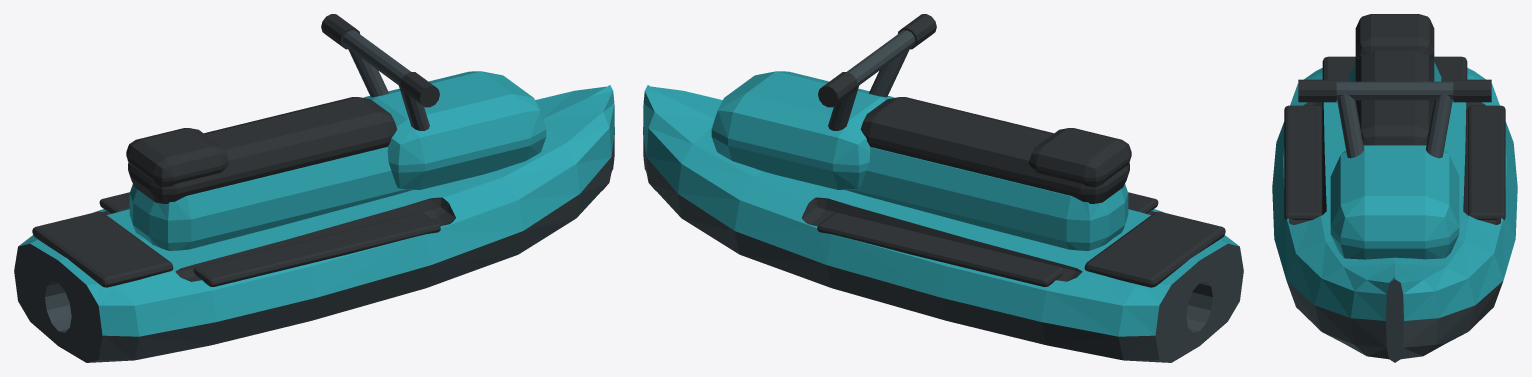
Rendered from NEW_RECOVERY_122_LOD2.fbx.
3 renders of one model, left to right at view 1: azimuth 30°, elevation 25°; view 2: azimuth 150°, elevation 25°; view 3: azimuth 270°, elevation 25°, orthographic. The views are drawn at different scales.
Parts seen in each view (by area): view 1: Generic personal watercraft solid; view 2: Generic personal watercraft solid; view 3: Generic personal watercraft solid.
Boxes of the visible parts, <box> form: Generic personal watercraft solid: <box>14,14,614,362</box>; Generic personal watercraft solid: <box>643,14,1243,362</box>; Generic personal watercraft solid: <box>1272,14,1517,362</box>.
Size of the model in its own units: 310 by 122 by 117.
